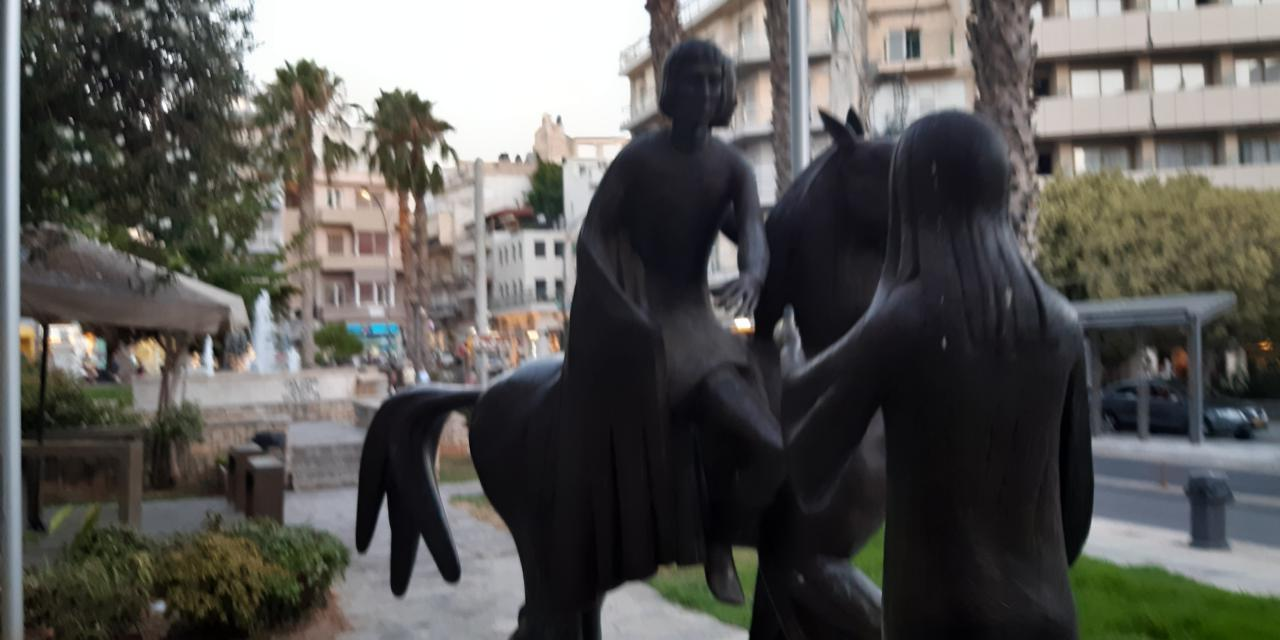Aretousa: (355, 37, 1095, 640)
